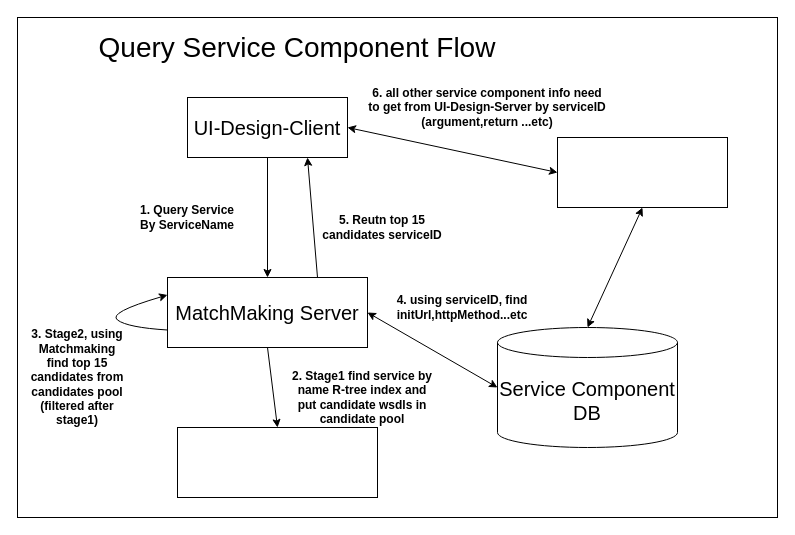
The diagram is 795 pixels wide and 535 high, and some of its shapes have lost their labels. The centre of each missing label's shape, as x and y in pixels:
R-Tree Index Server: point (277, 462)
UI-Design-Server: point (642, 172)
